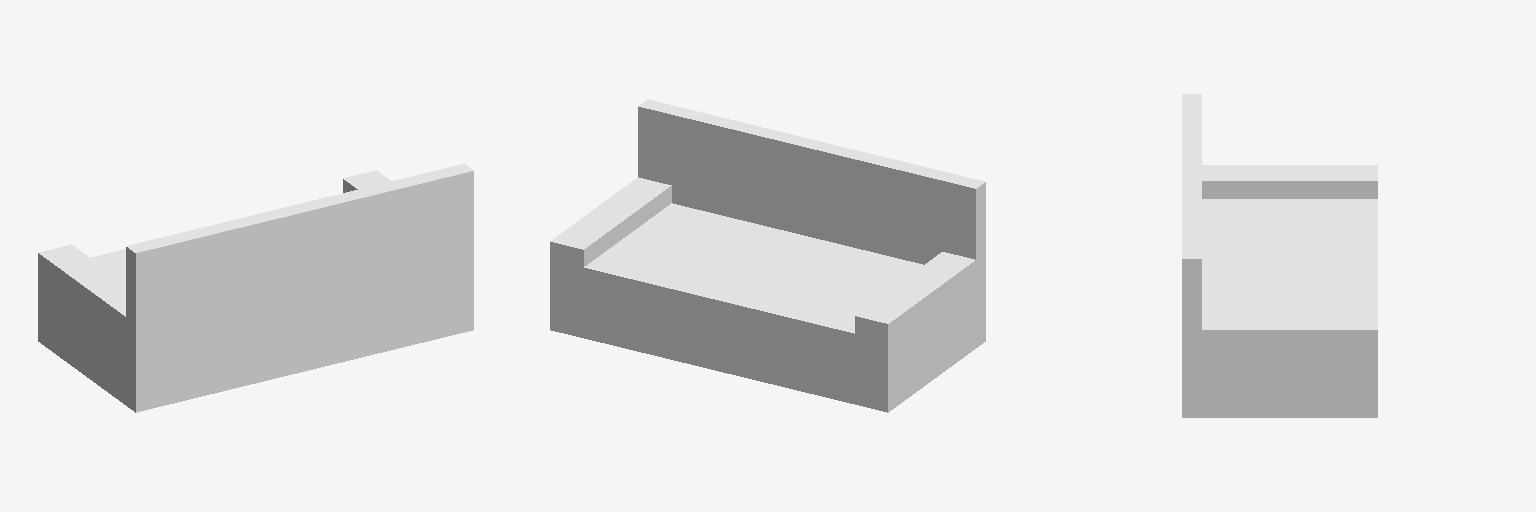
Rendered from vox-couch.obj.
The picture shows the model from 3 angles: view 1: azimuth 30°, elevation 25°; view 2: azimuth 150°, elevation 25°; view 3: azimuth 270°, elevation 25°; orthographic projection.
Bounding box in the file's own units: 20 × 9 × 10.